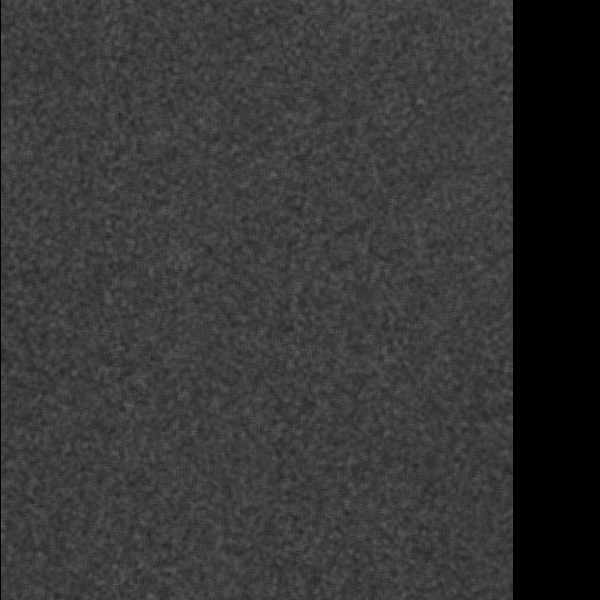spark: (122, 404, 173, 458), (430, 470, 477, 516)
